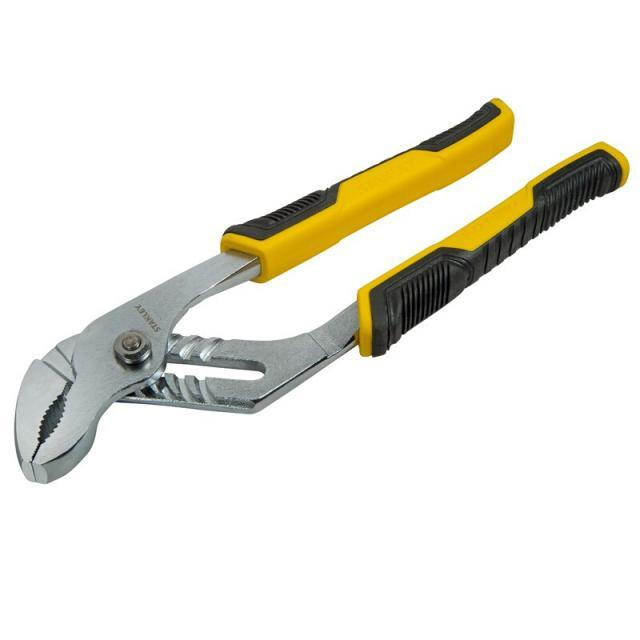pliers: (10, 89, 634, 489)
